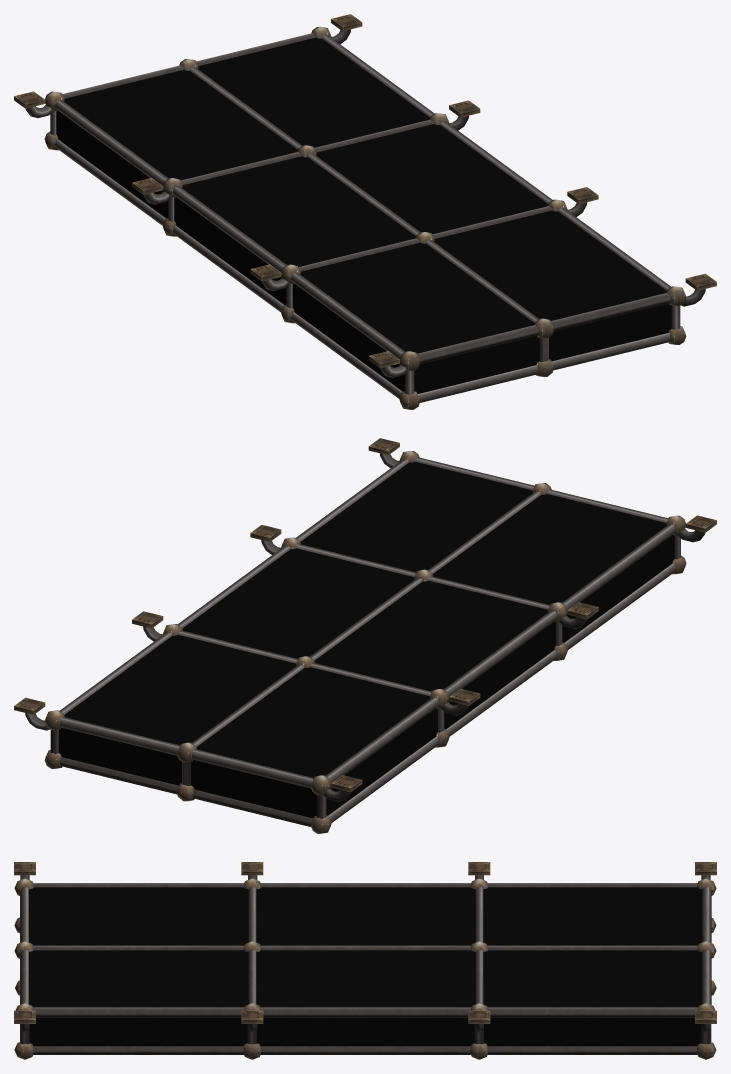
File: catwalk_factory_4m.DAE
The picture shows the model from 3 angles, top to bottom: view 1: azimuth 30°, elevation 25°; view 2: azimuth 150°, elevation 25°; view 3: azimuth 270°, elevation 25°; orthographic projection. The views are drawn at different scales.
Visible parts, largest first — view 1: Plane004, Object116; view 2: Plane004, Object116; view 3: Plane004, Object116.
Boxes of the visible parts, x1,y1,x2,y2 form: Plane004: (56, 37, 671, 393); Object116: (14, 14, 716, 409); Plane004: (58, 461, 674, 818); Object116: (14, 438, 716, 833); Plane004: (29, 887, 702, 1046); Object116: (14, 862, 716, 1059).
Size of the model in its own units: 2.13 by 0.3534 by 4.
